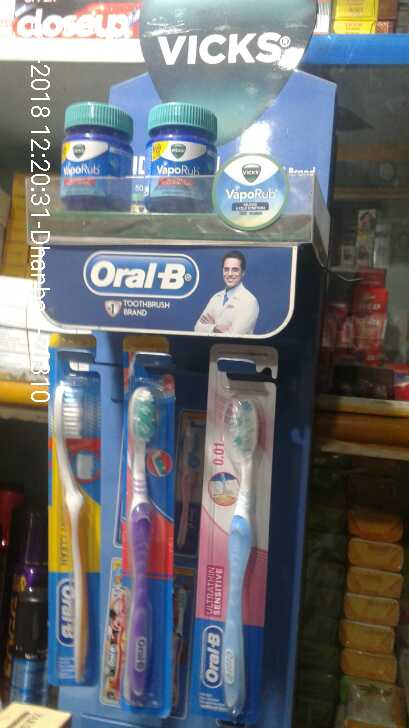pharmacy: (202, 397, 271, 722), (120, 365, 177, 719), (49, 358, 95, 681), (51, 96, 133, 211), (136, 103, 218, 214)
